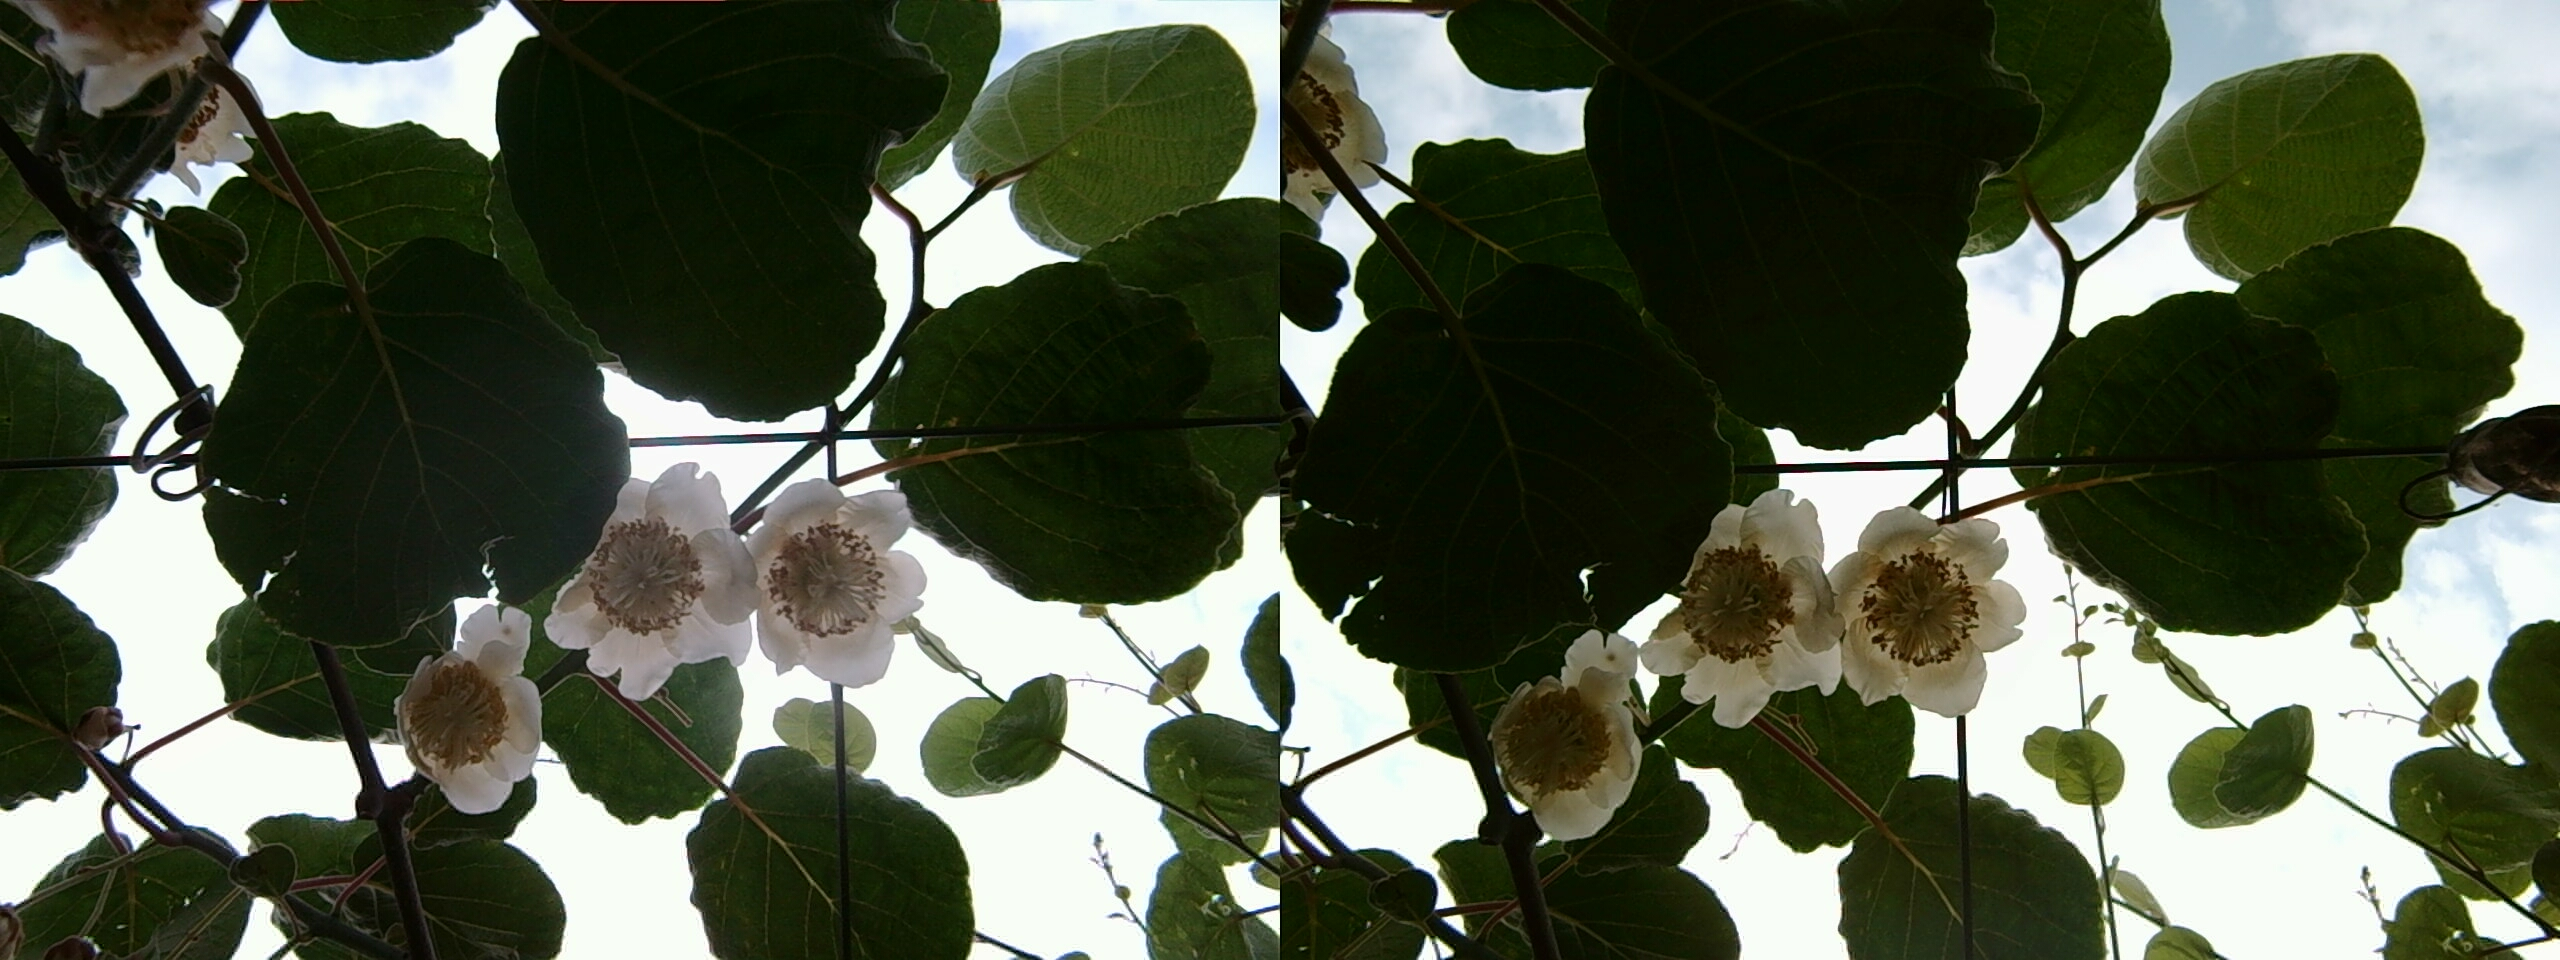flower: (531, 452, 754, 692), (1629, 482, 1838, 722), (1816, 496, 2024, 710), (735, 465, 927, 681), (1482, 624, 1660, 841), (389, 602, 552, 813)
